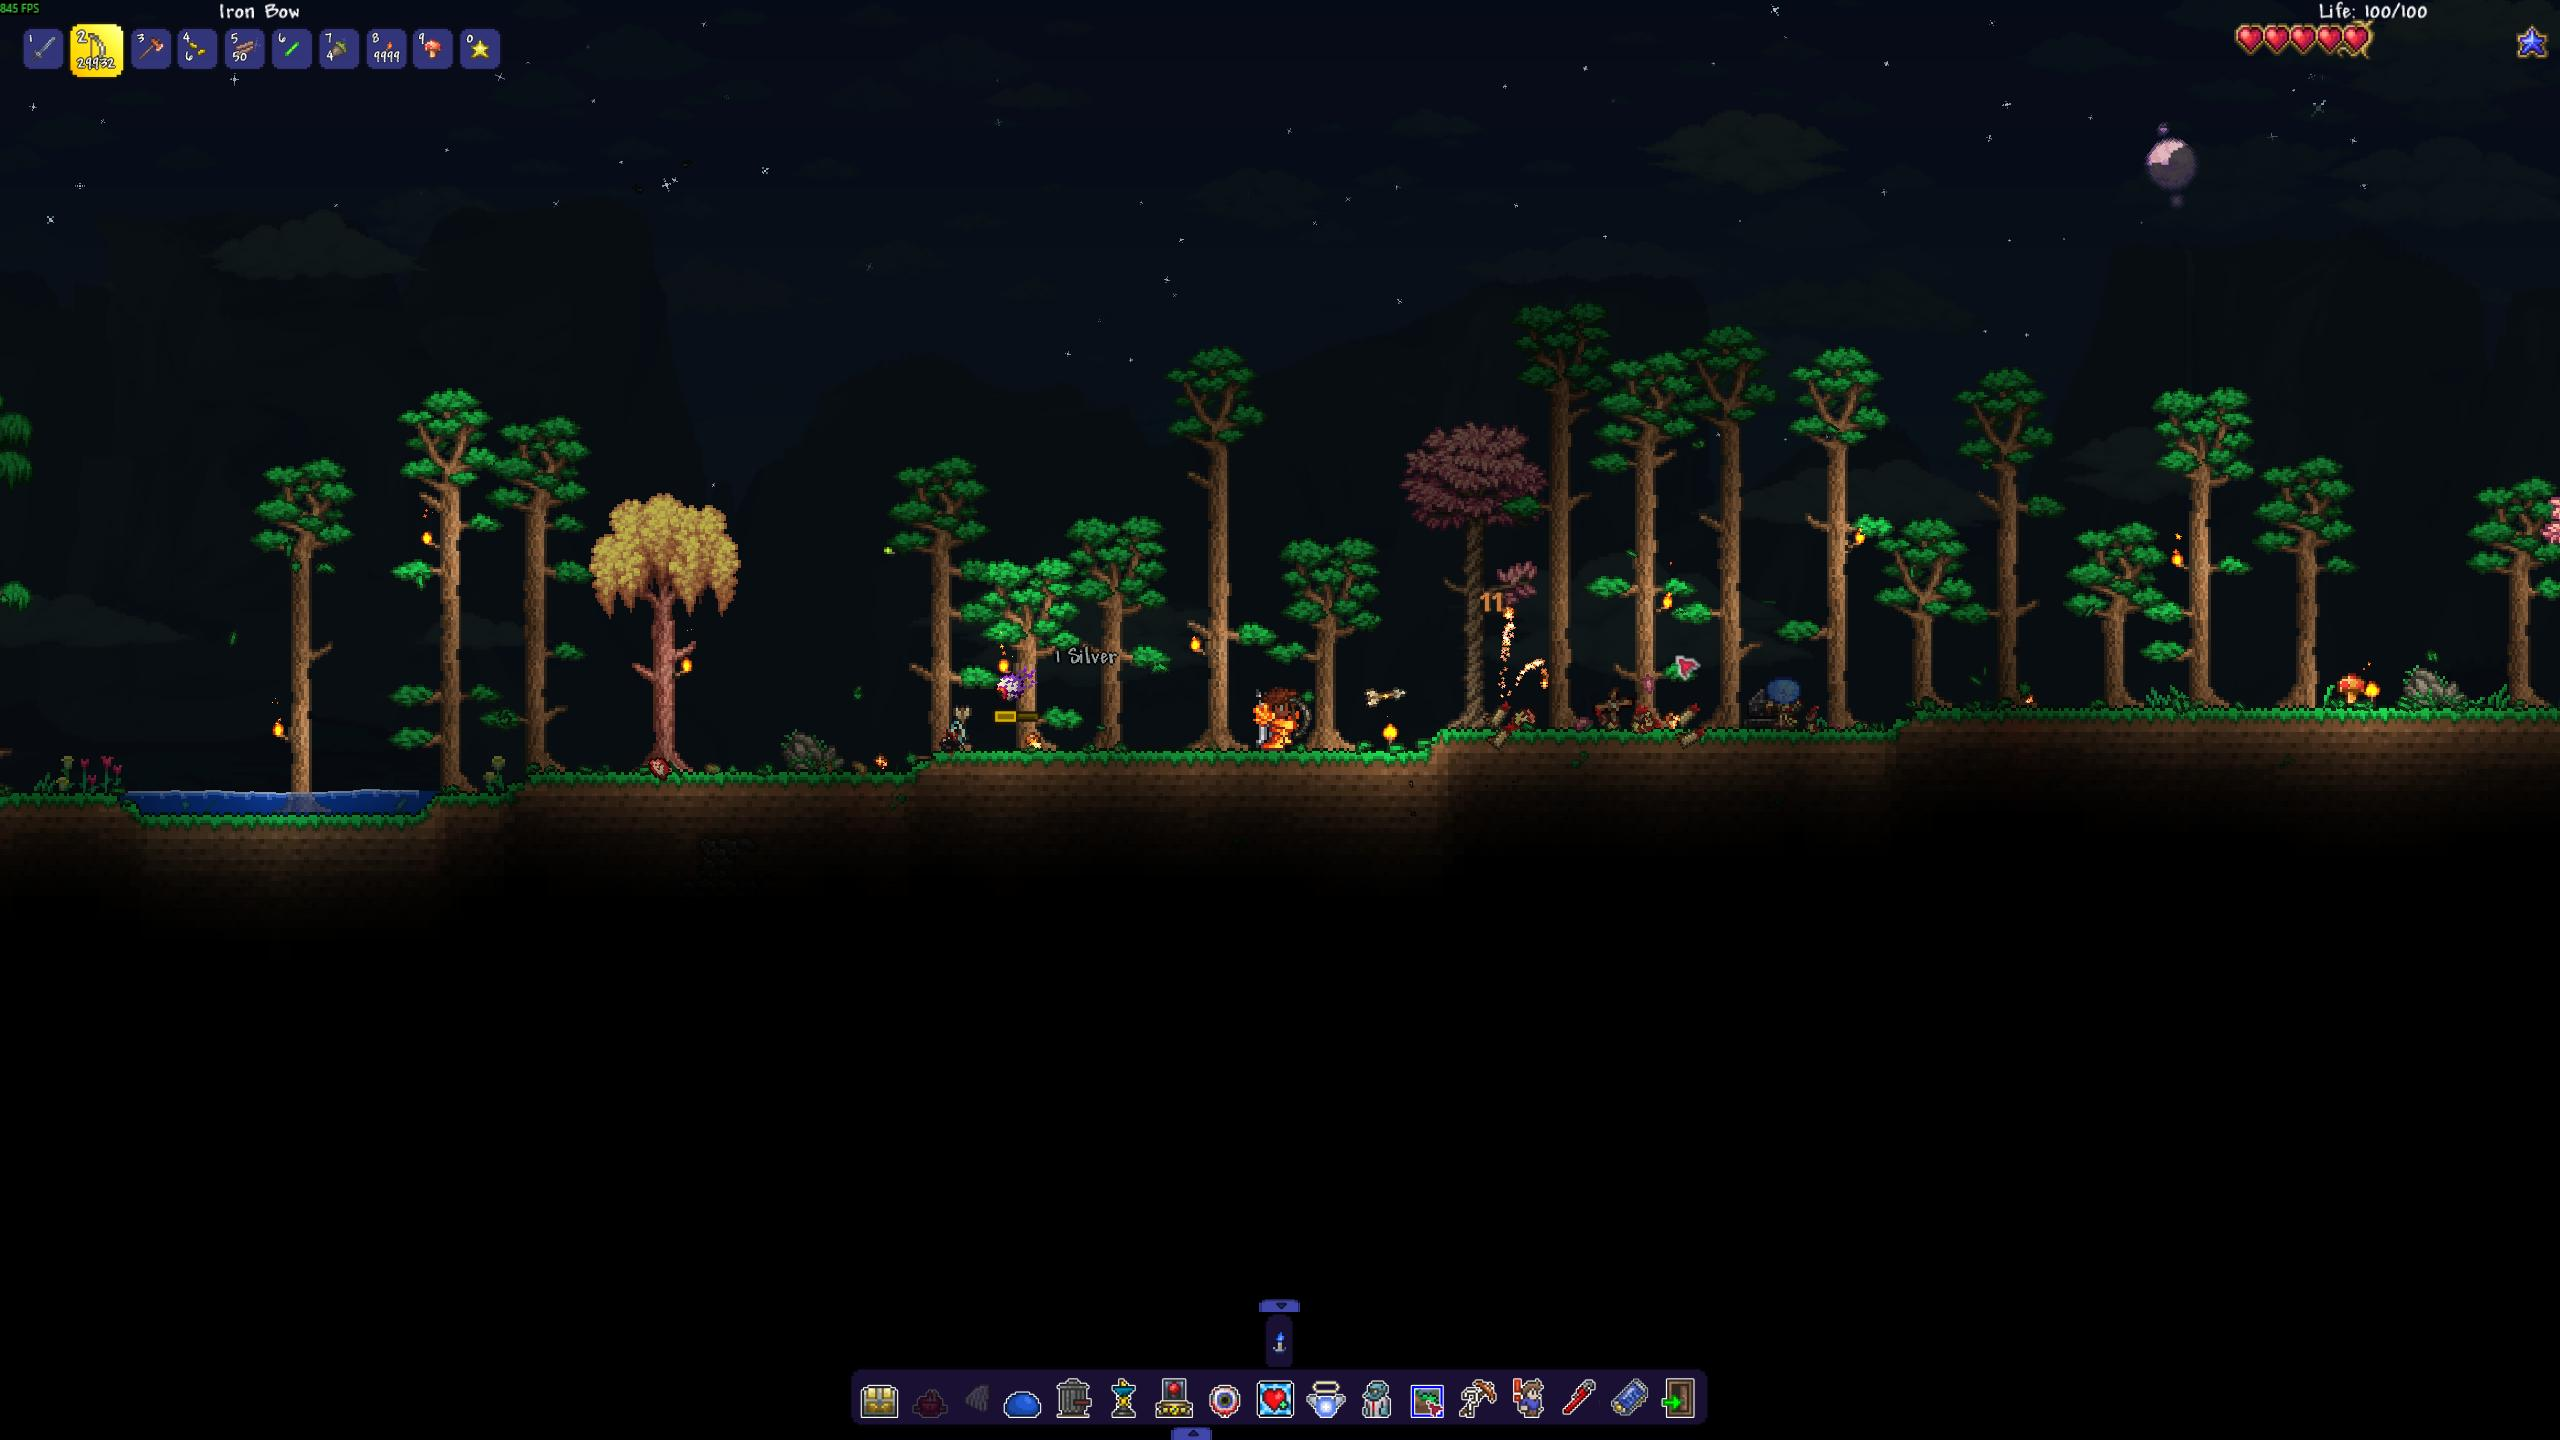Demon Eye: (990, 665, 1043, 705)
Zombie: (1760, 668, 1811, 730)
